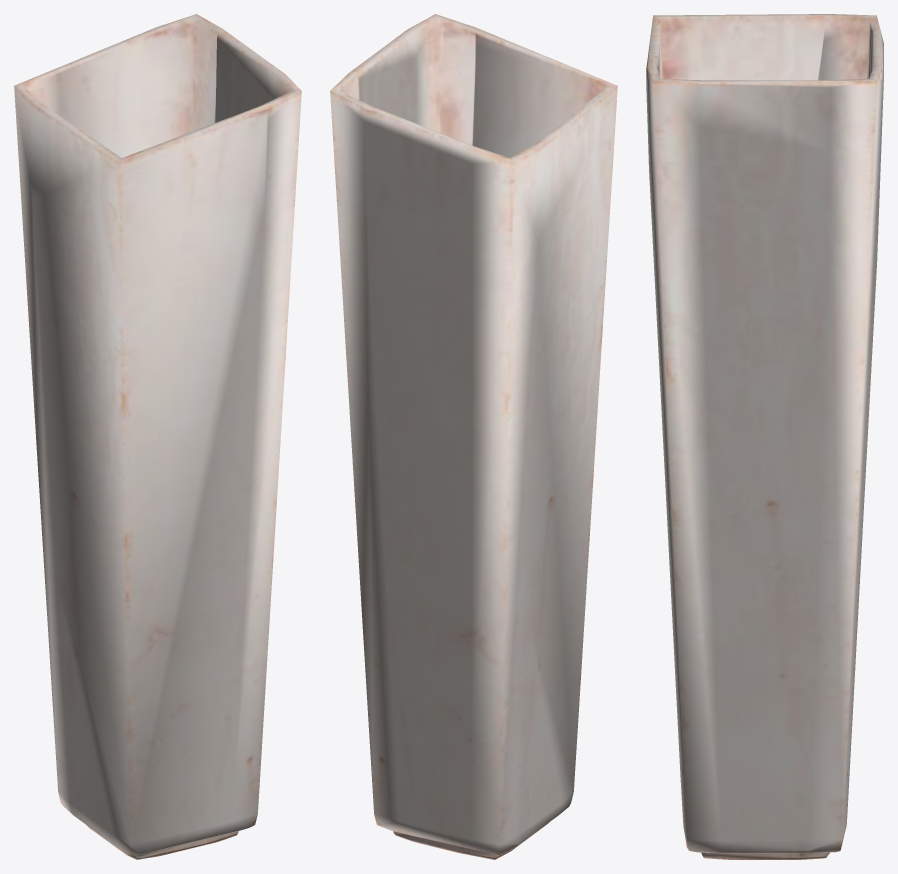
Rendered from ceramic_vase_03.glb.
3 views of the same model, side by side, from view 1: azimuth 30°, elevation 25°; view 2: azimuth 150°, elevation 25°; view 3: azimuth 270°, elevation 25° (orthographic). The views are drawn at different scales.
Parts seen in each view (by area): view 1: ceramic_vase_03; view 2: ceramic_vase_03; view 3: ceramic_vase_03.
Part boxes in pixels (x1,y1,x2,y2): ceramic_vase_03: (14,14,301,859); ceramic_vase_03: (330,14,617,859); ceramic_vase_03: (646,14,883,859).
Bounding box in the file's own units: 0.1107 × 0.4143 × 0.1116.
1 material, 1 textured.
